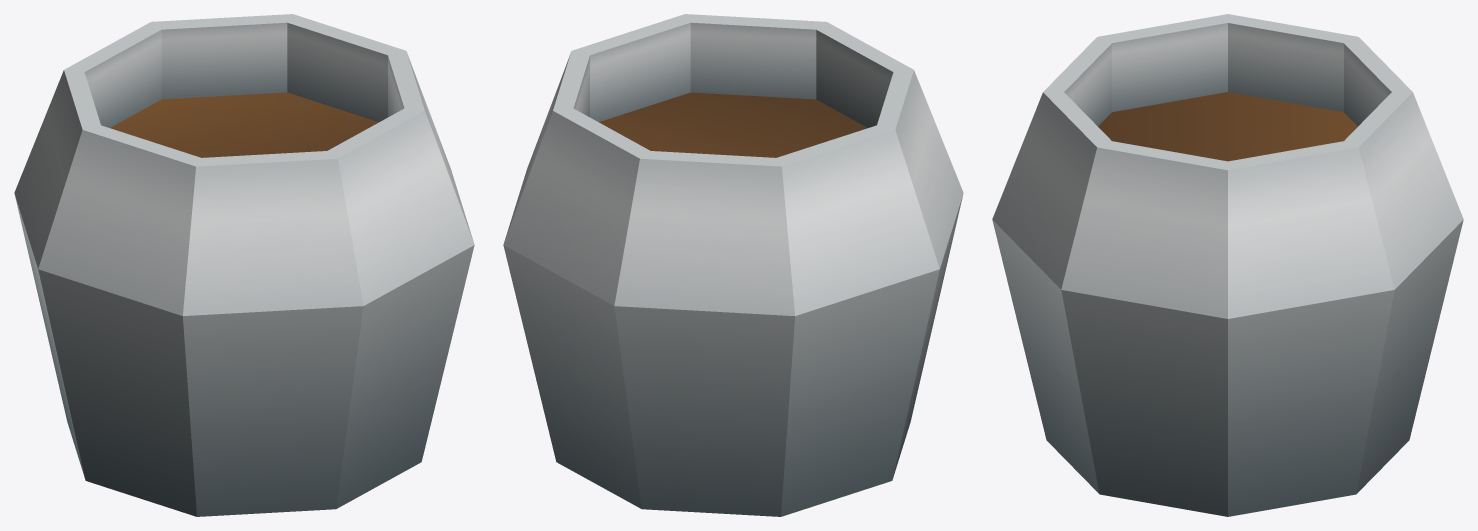
Rendered from PlantPotStylised.fbx.
3 renders of one model, left to right at view 1: azimuth 30°, elevation 25°; view 2: azimuth 150°, elevation 25°; view 3: azimuth 270°, elevation 25°, orthographic.
Parts seen in each view (by area): view 1: PlantPotStylised; view 2: PlantPotStylised; view 3: PlantPotStylised.
Part boxes in pixels (x1,y1,x2,y2): PlantPotStylised: (14, 14, 474, 516); PlantPotStylised: (503, 14, 963, 516); PlantPotStylised: (992, 14, 1463, 516).
Size of the model in its own units: 24.32 by 19.81 by 24.32.
